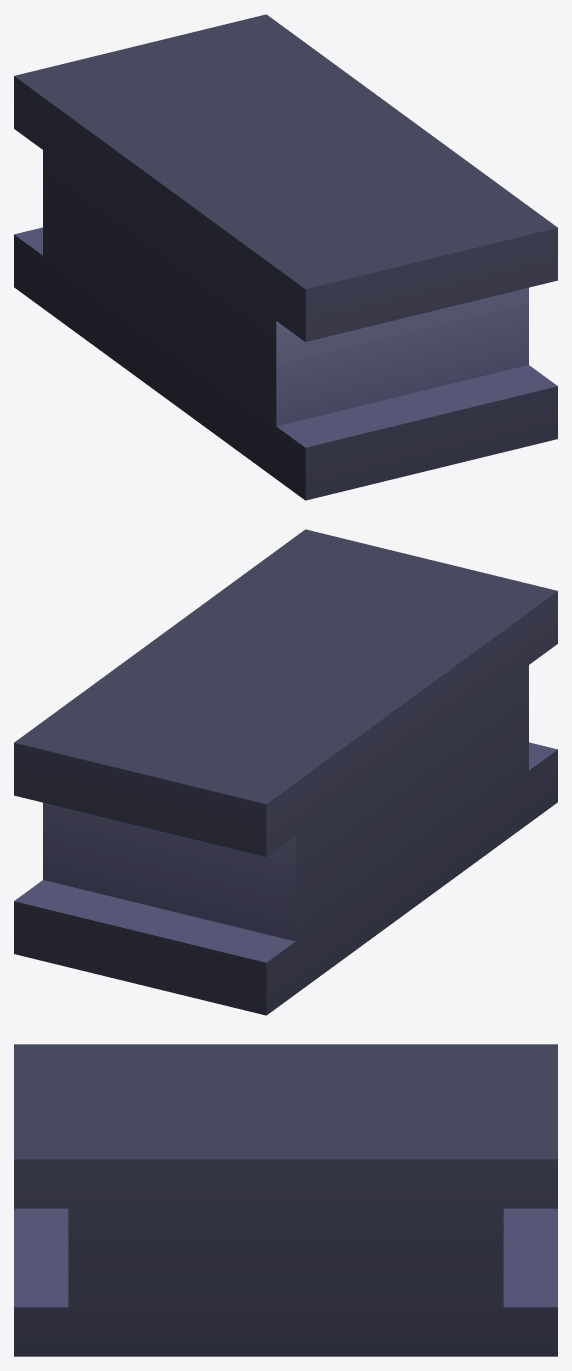
File: kenney-conveyor-conveyor-long-part-middle.glb
3 views of the same model, one above another, from view 1: azimuth 30°, elevation 25°; view 2: azimuth 150°, elevation 25°; view 3: azimuth 270°, elevation 25° (orthographic). The views are drawn at different scales.
Parts seen in each view (by area): view 1: conveyor-long-part-middle; view 2: conveyor-long-part-middle; view 3: conveyor-long-part-middle.
Boxes of the visible parts, x1,y1,x2,y2 form: conveyor-long-part-middle: [14, 14, 557, 500]; conveyor-long-part-middle: [14, 529, 557, 1015]; conveyor-long-part-middle: [14, 1044, 557, 1356].
Bounding box in the file's own units: 0.5001 × 0.3999 × 1.
Materials: 1 (1 with a texture image).
